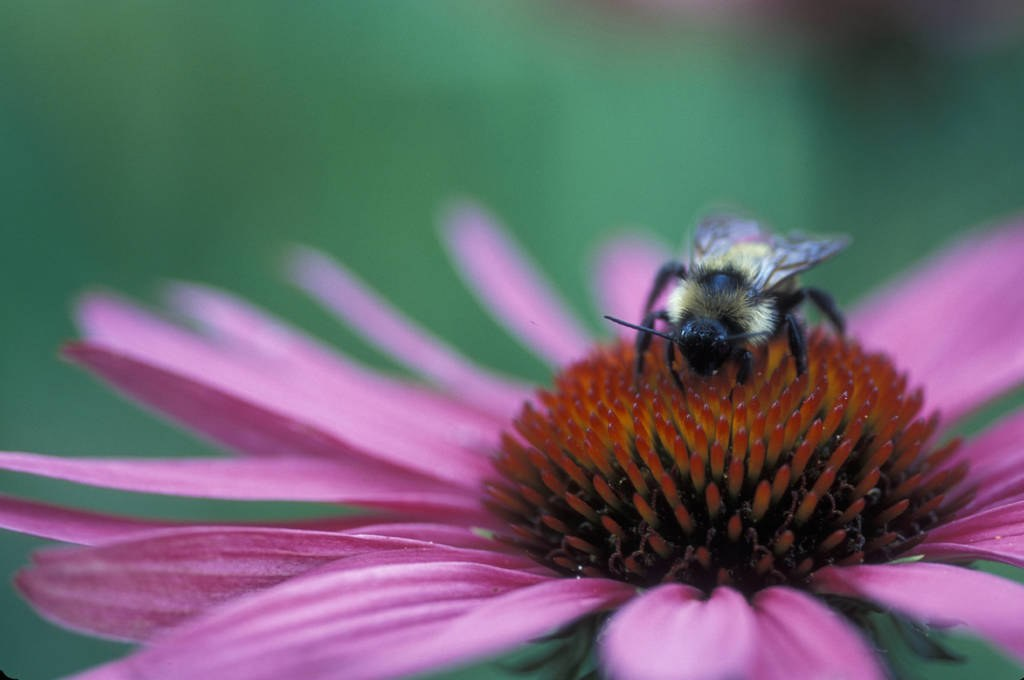bee: (605, 205, 859, 409)
insect: (74, 179, 983, 663)
